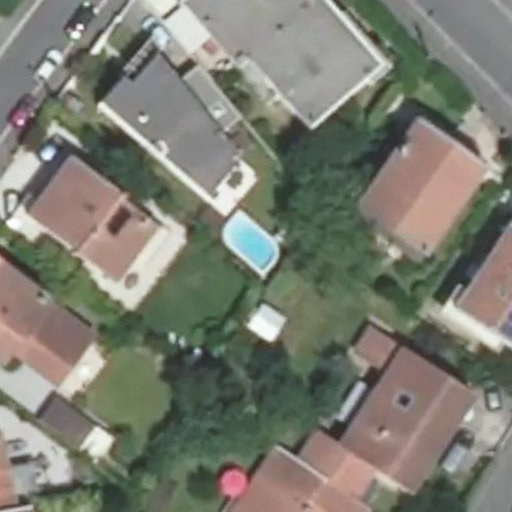pool: (228, 238, 282, 245)
